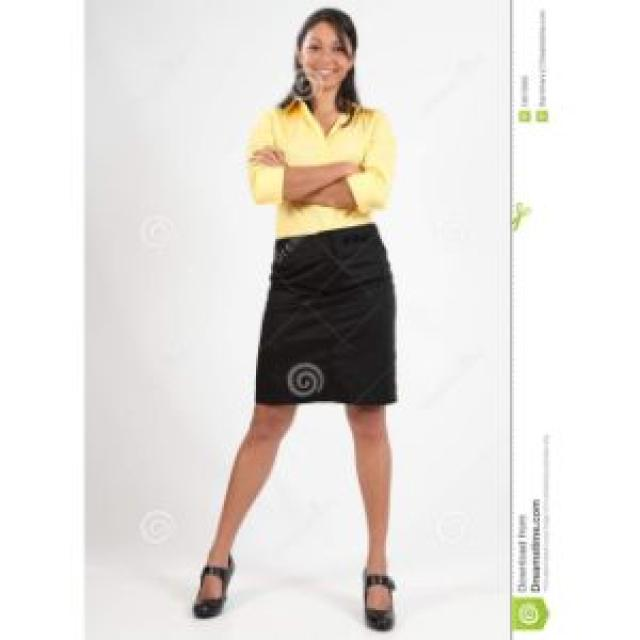adult: (179, 4, 452, 640)
